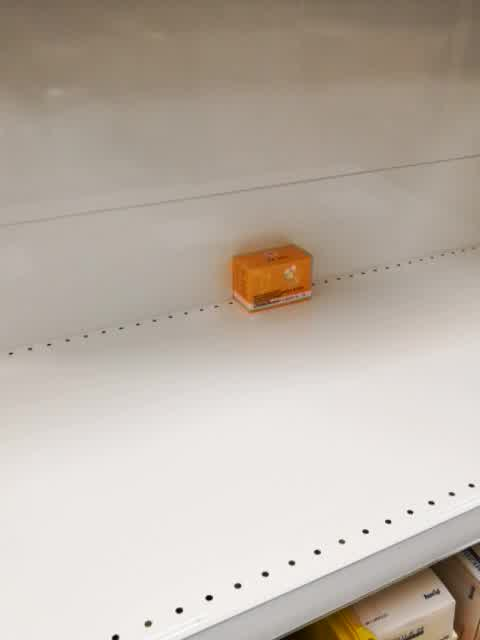jasminetea: (229, 242, 315, 315)
